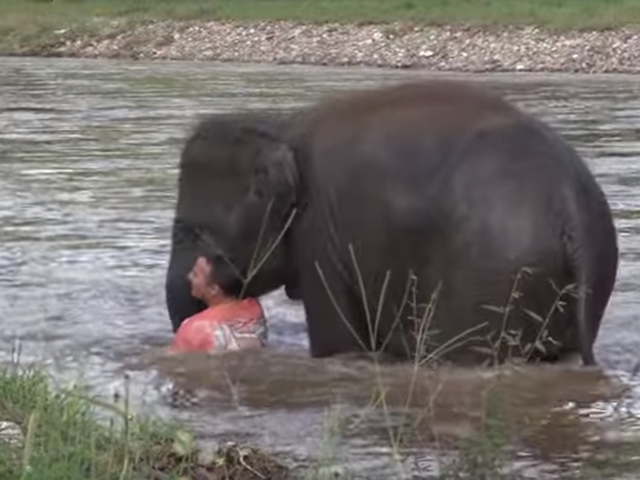elephant: (165, 70, 626, 392)
